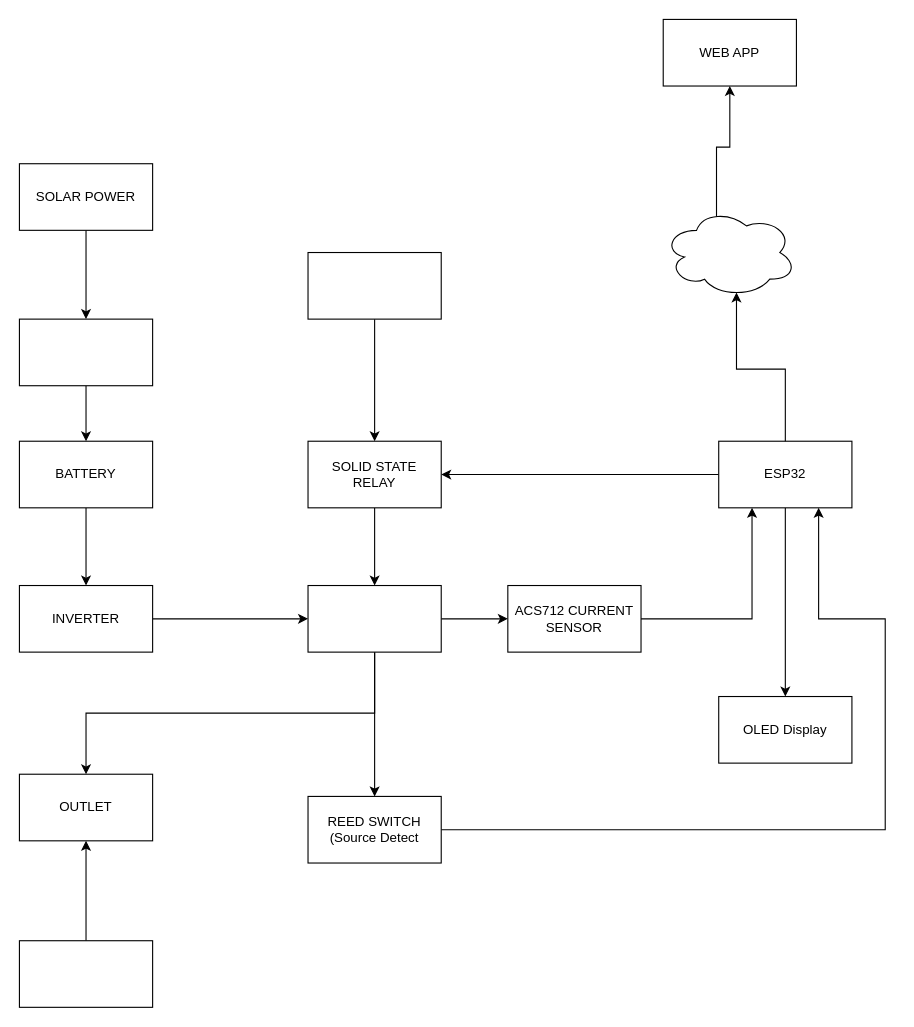
Image size: 914x1027. Some labels were removed from this diagram. The box of each missing label's shape, as (x1, y1, x2, y2) in pixels:
APPLIANCE: (18, 940, 153, 1007)
AUTOMATIC TRANSFER SWITCH: (307, 584, 441, 652)
CHARGE CONTROLLER: (18, 318, 153, 386)
GRID POWER: (307, 251, 441, 319)
SUPABASE: (662, 207, 796, 297)
